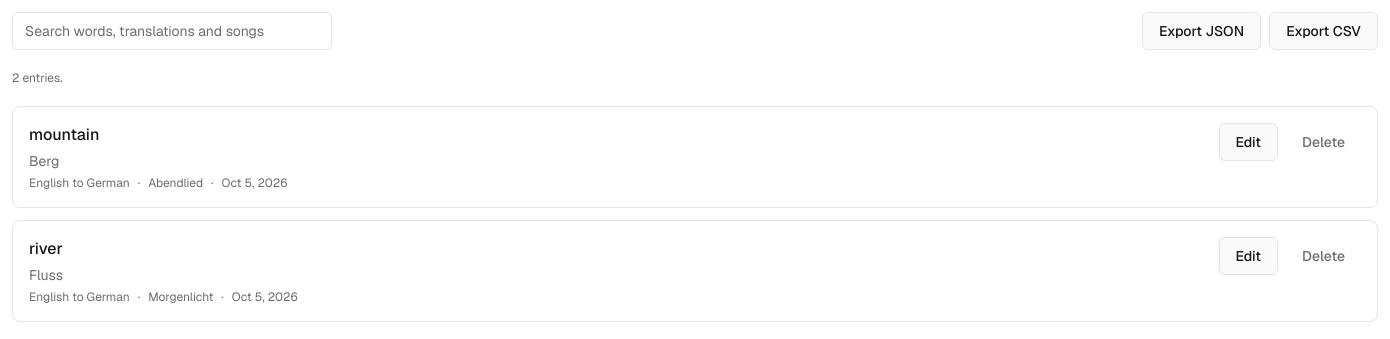
Test: VocabularyList › search › filters by the translation
Expected: the number of list items is 2, x1=12 y1=106 x2=1378 y2=208; x1=12 y1=220 x2=1378 y2=322
In the search field named "Search vocabulary": [172, 31] box x1=12 y1=12 x2=332 y2=50, type "Berg"
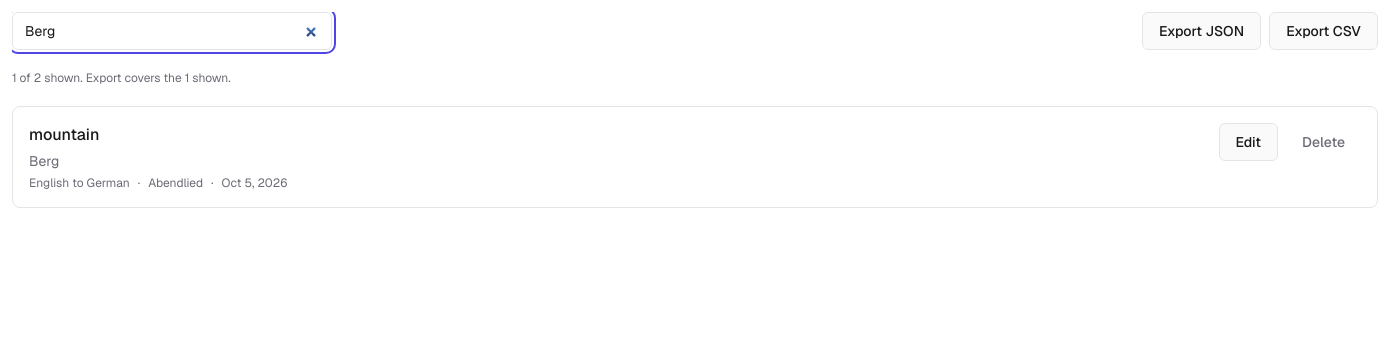
Expected: the list item shows "mountain", x1=29 y1=124 x2=99 y2=145
Expected: the number of list items is 1, x1=12 y1=106 x2=1378 y2=208
